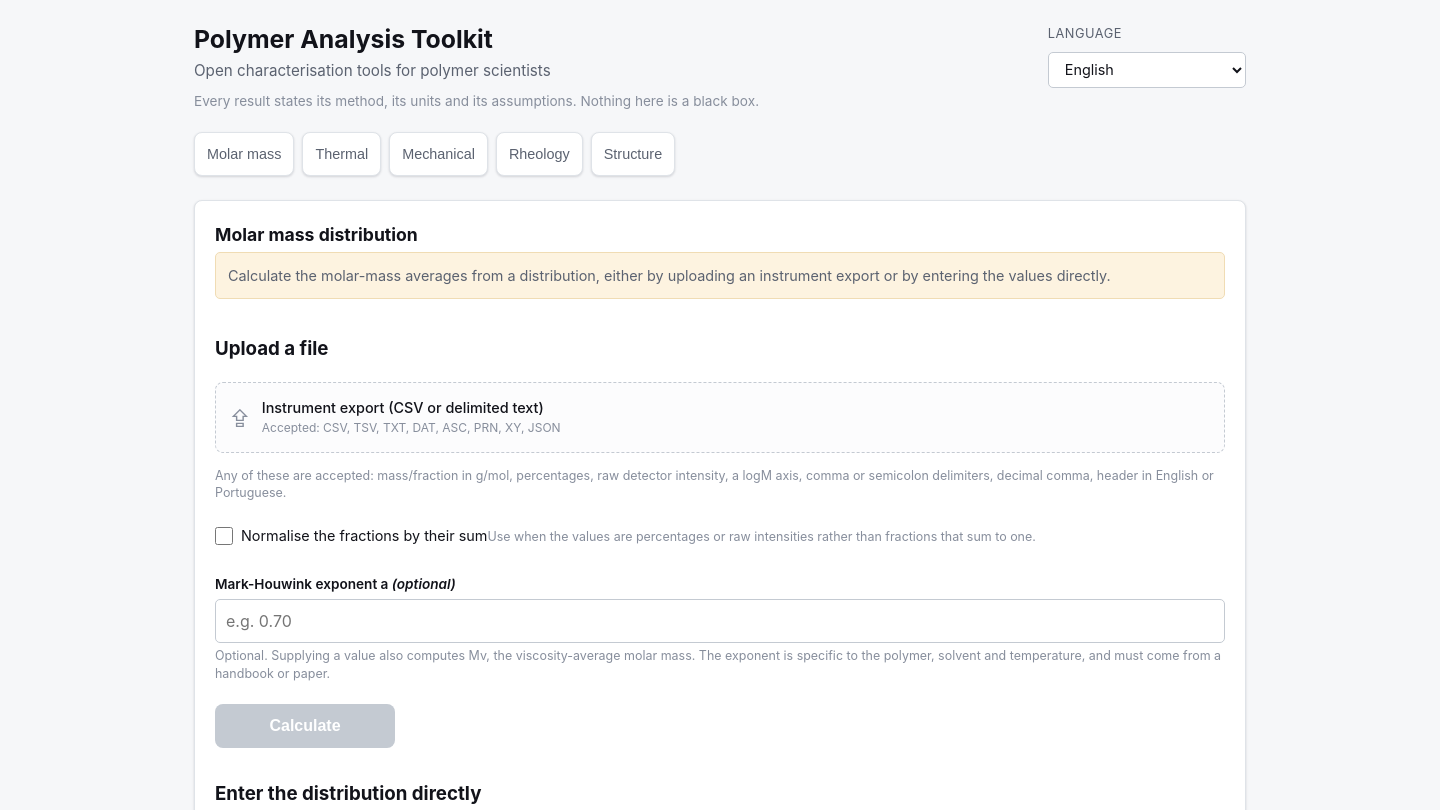
PAT application shell › switches the interface language to Portuguese
Select "Português" in the dropdown labelled "Language" at x=1147, y=70, box [1048,52,1246,88]
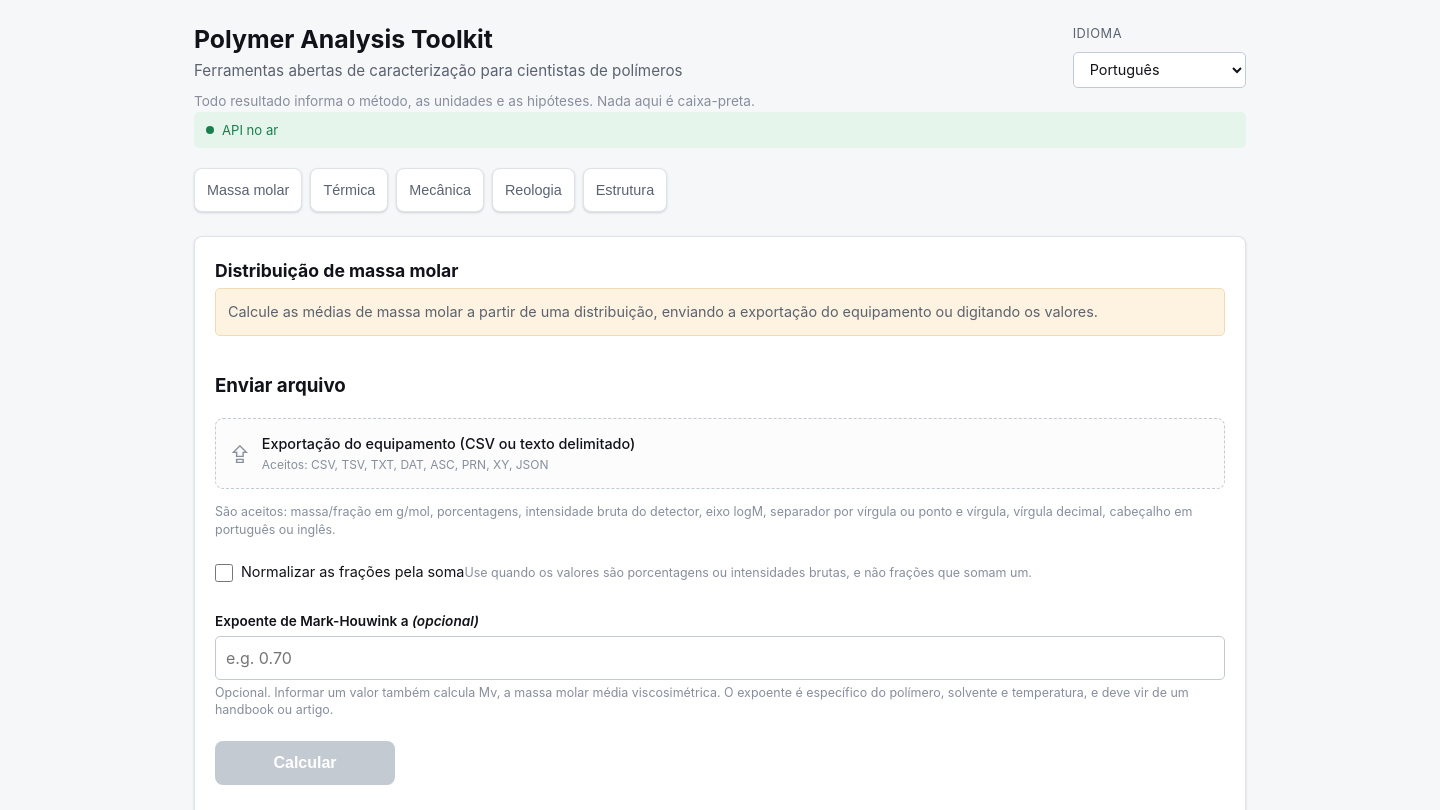
Check: the button "Massa molar" is shown, box [194,168,302,212]
